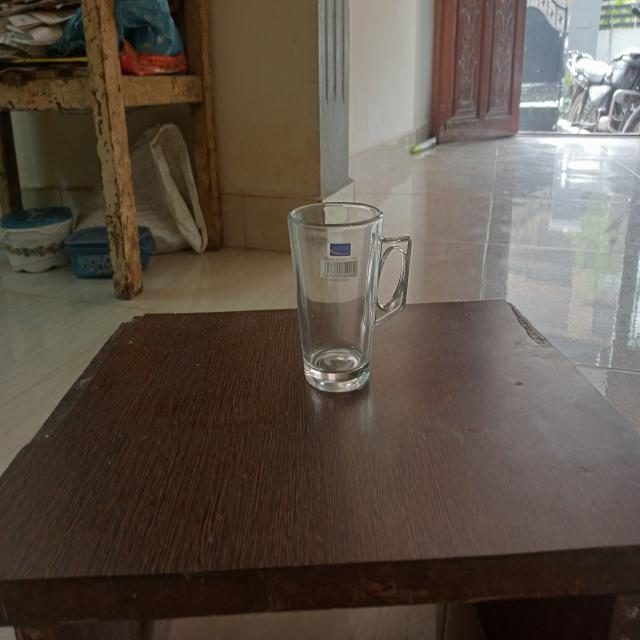glass-VX4N: (288, 202, 412, 392)
